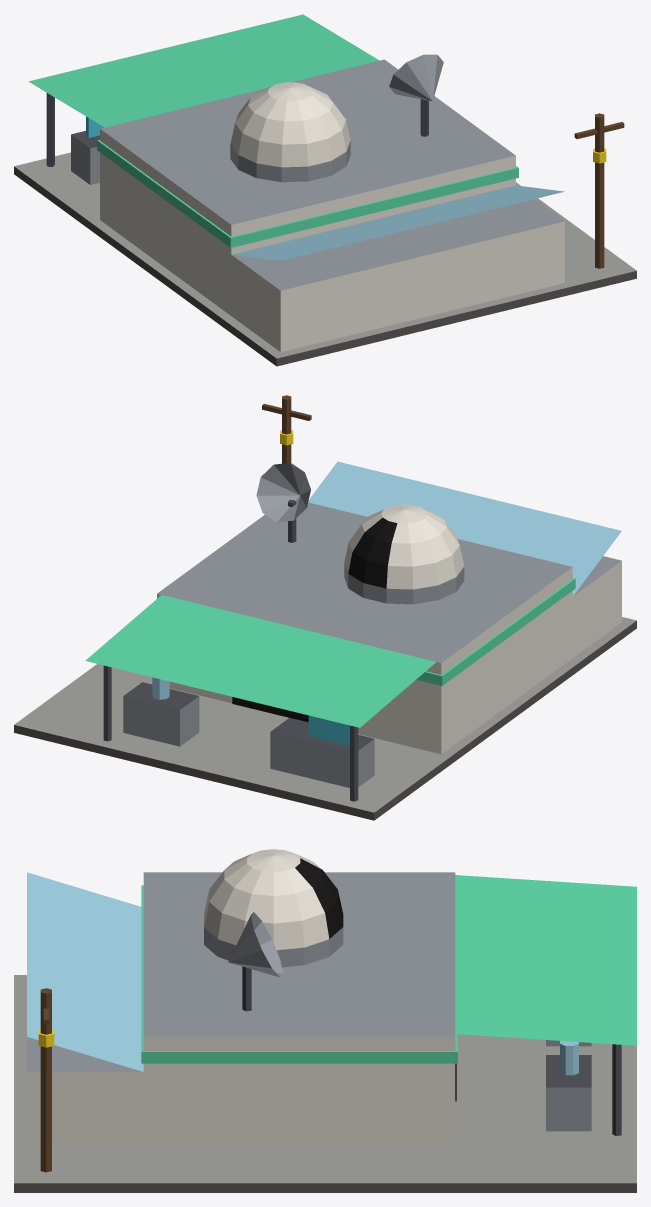
The model's file is research_lab.obj.
The picture shows the model from 3 angles, top to bottom: view 1: azimuth 30°, elevation 25°; view 2: azimuth 150°, elevation 25°; view 3: azimuth 270°, elevation 25°; orthographic projection. The views are drawn at different scales.
Bounding box in the file's own units: 3.8 × 1.8 × 4.8.
